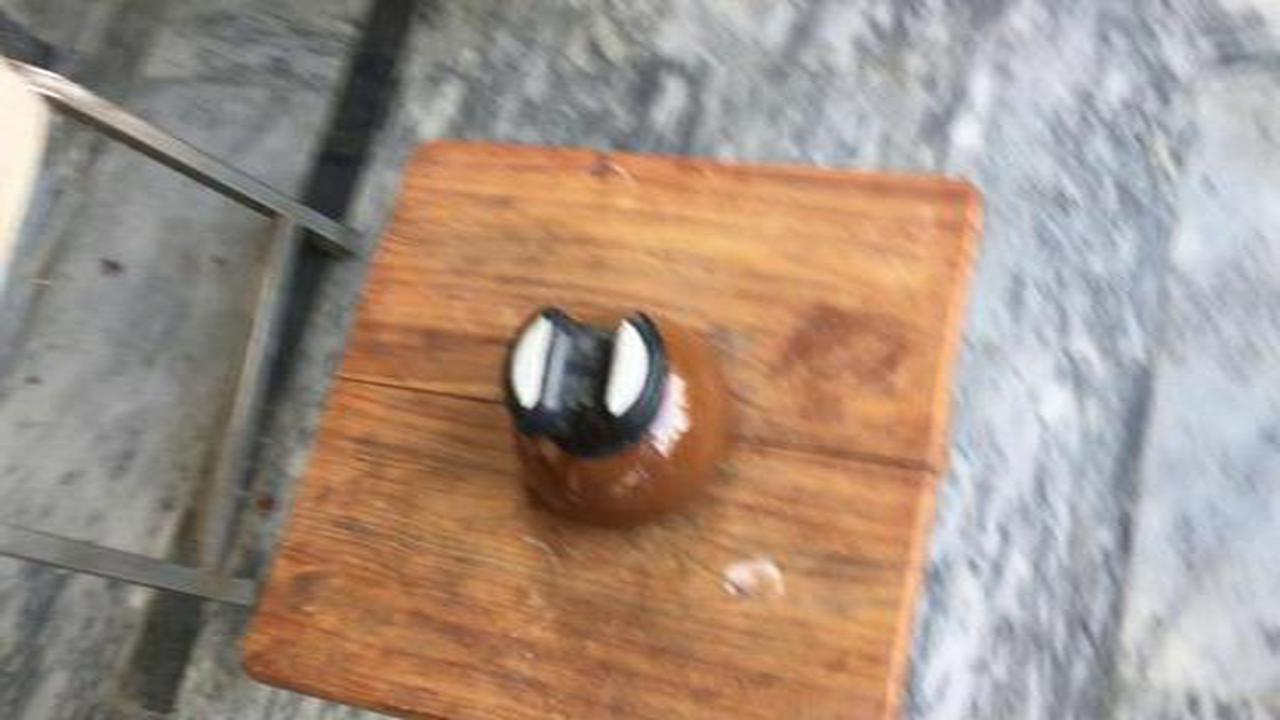insulator_pin: (480, 296, 754, 547)
